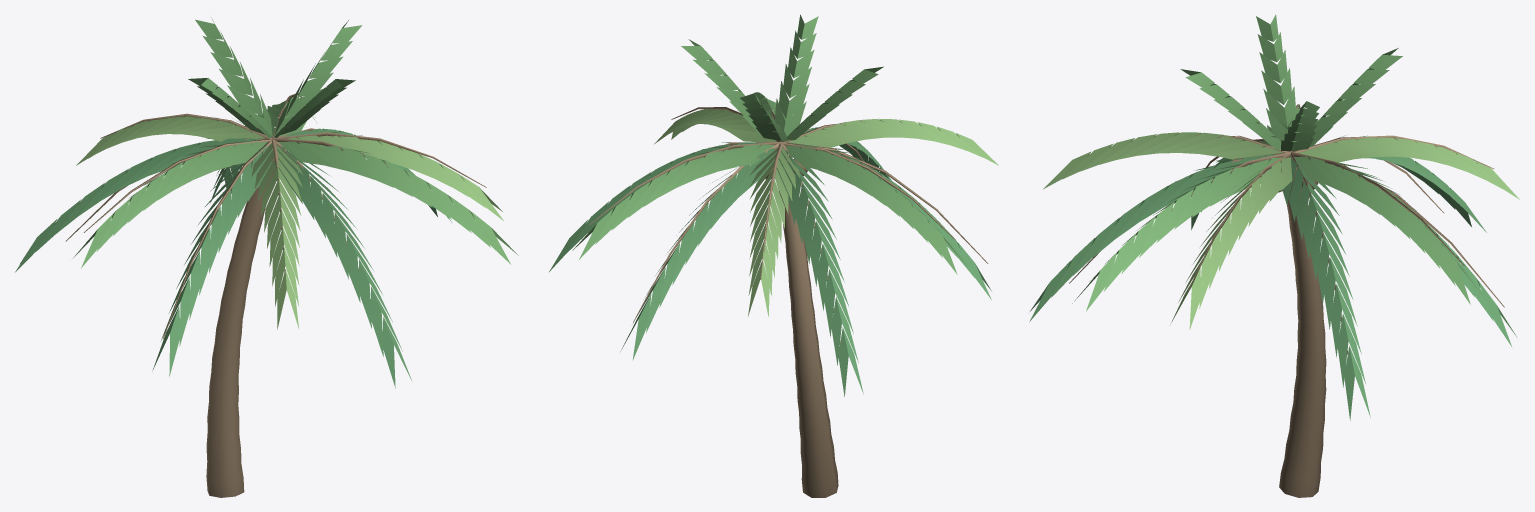
The model's file is palme_1.glb.
3 views of the same model, side by side, from view 1: azimuth 30°, elevation 25°; view 2: azimuth 150°, elevation 25°; view 3: azimuth 270°, elevation 25° (orthographic). The views are drawn at different scales.
Parts seen in each view (by area): view 1: G_palme_1; view 2: G_palme_1; view 3: G_palme_1.
Part boxes in pixels (bbox=[...]): G_palme_1: bbox=[15, 17, 518, 497]; G_palme_1: bbox=[549, 14, 998, 497]; G_palme_1: bbox=[1029, 14, 1519, 497].
Bounding box in the file's own units: 8.25 × 8.55 × 8.42.
